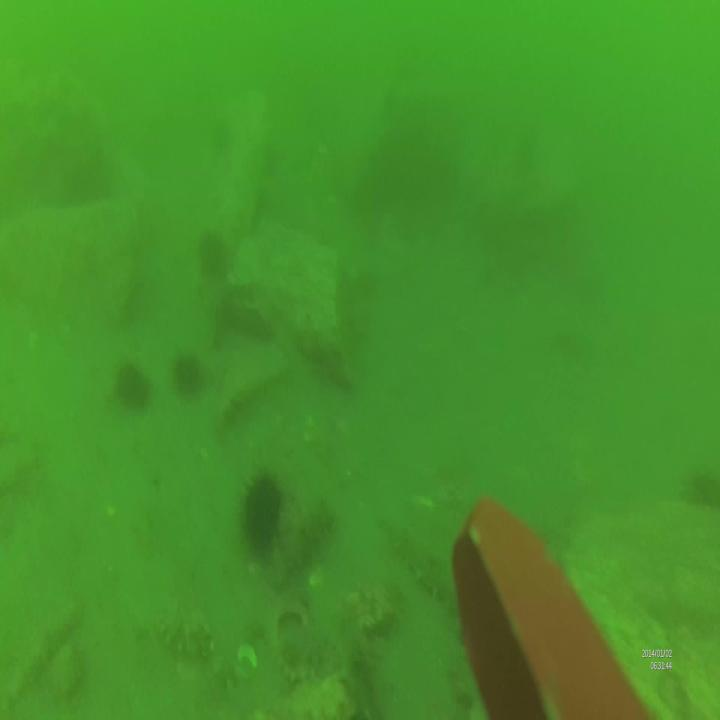echinus: (241, 467, 283, 565), (116, 362, 152, 412), (171, 350, 203, 402)
holothurian: (380, 509, 474, 618), (249, 648, 365, 720)
